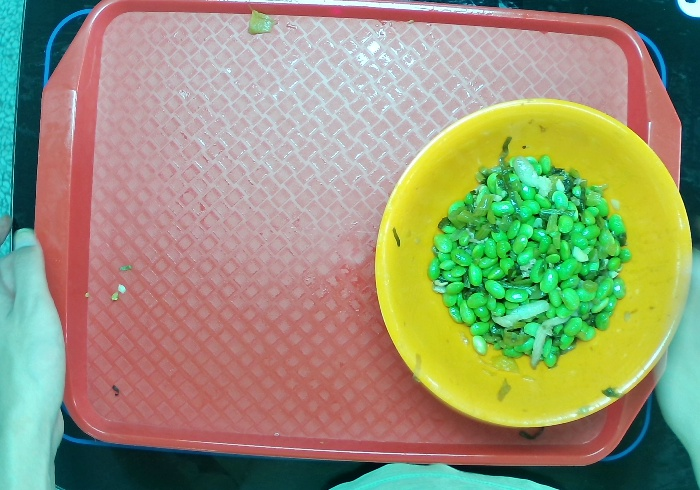YKMZ-Ju_Se_Tang_Wan: (355, 78, 700, 436)
